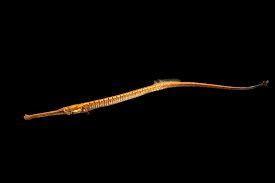Long-Snouted Pipefish: (23, 77, 269, 120)
